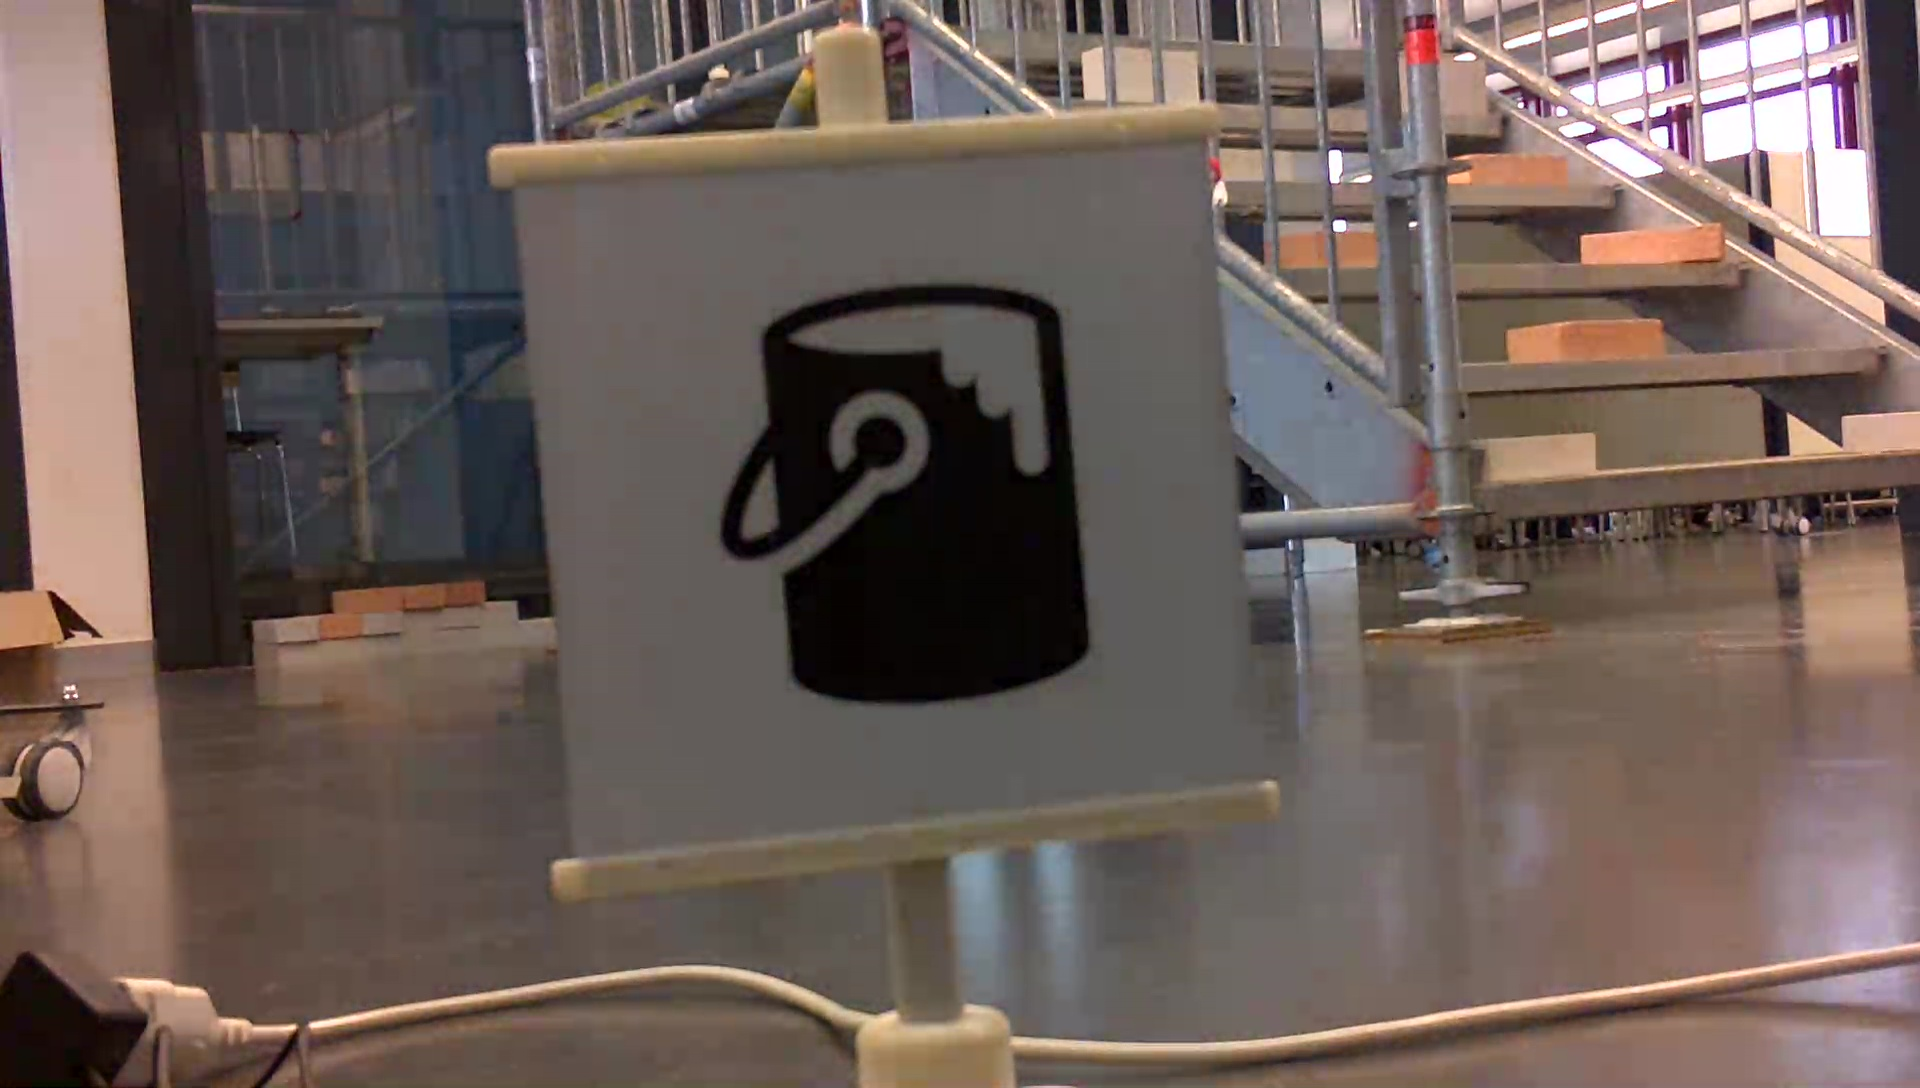brick: (1509, 320, 1662, 355), (1582, 228, 1722, 260), (1487, 435, 1592, 475), (1844, 411, 1920, 452), (1462, 156, 1563, 182), (1437, 61, 1482, 111)
bucket: (712, 276, 1106, 717)
